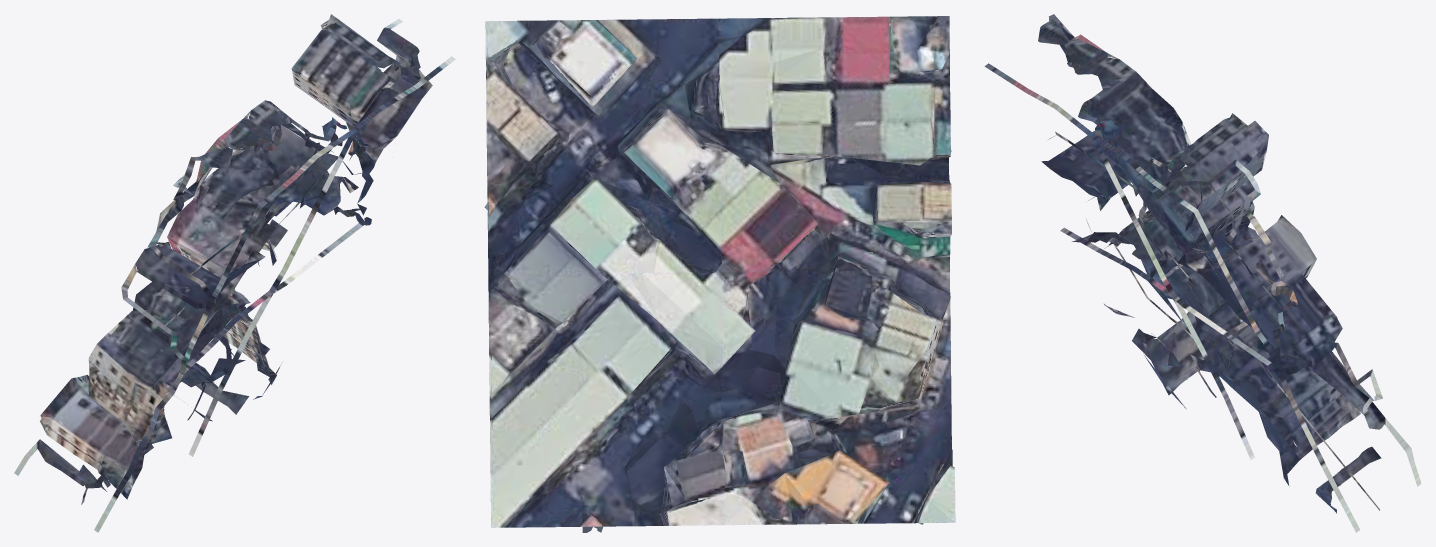
3 renders of one model, left to right at view 1: azimuth 30°, elevation 25°; view 2: azimuth 150°, elevation 25°; view 3: azimuth 270°, elevation 25°, orthographic. The views are drawn at different scales.
Size of the model in its own units: 84.71 by 77.84 by 75.13.
Materials: 2 (2 with a texture image).
